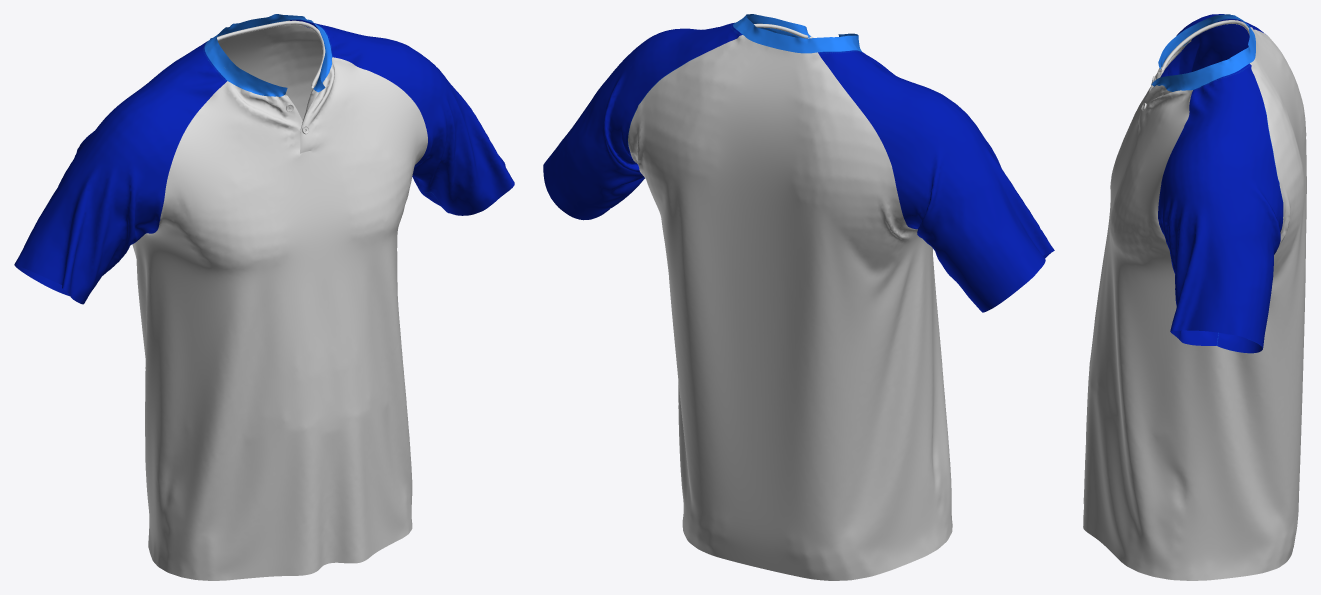
The model's file is sleeve-collar.glb.
3 renders of one model, left to right at view 1: azimuth 30°, elevation 25°; view 2: azimuth 150°, elevation 25°; view 3: azimuth 270°, elevation 25°, orthographic. The views are drawn at different scales.
Visible parts, largest first — view 1: New_Jersey2; view 2: New_Jersey2; view 3: New_Jersey2.
Part boxes in pixels (x1,y1,x2,y2): New_Jersey2: (14,14,514,580); New_Jersey2: (543,14,1054,580); New_Jersey2: (1083,14,1306,580).
Size of the model in its own units: 0.693 by 0.7001 by 0.2851.
Materials: 2 (1 with a texture image).
